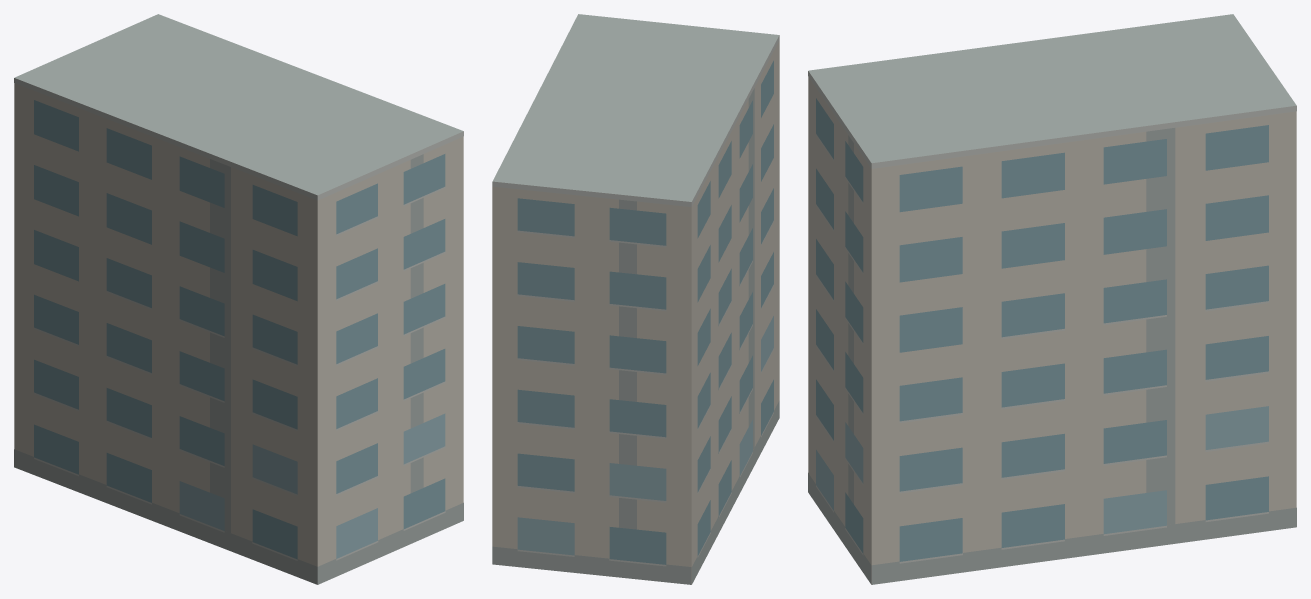
The model's file is survey-upis-32907718.glb.
3 renders of one model, left to right at view 1: azimuth 30°, elevation 25°; view 2: azimuth 150°, elevation 25°; view 3: azimuth 270°, elevation 25°, orthographic. The views are drawn at different scales.
Visible parts, largest first — view 1: survey-upis-32907718.tmp; view 2: survey-upis-32907718.tmp; view 3: survey-upis-32907718.tmp.
Boxes of the visible parts, x1,y1,x2,y2 form: survey-upis-32907718.tmp: [14, 14, 463, 584]; survey-upis-32907718.tmp: [492, 14, 779, 584]; survey-upis-32907718.tmp: [808, 14, 1296, 584].
Size of the model in its own units: 13.9 by 18.3 by 19.23.
